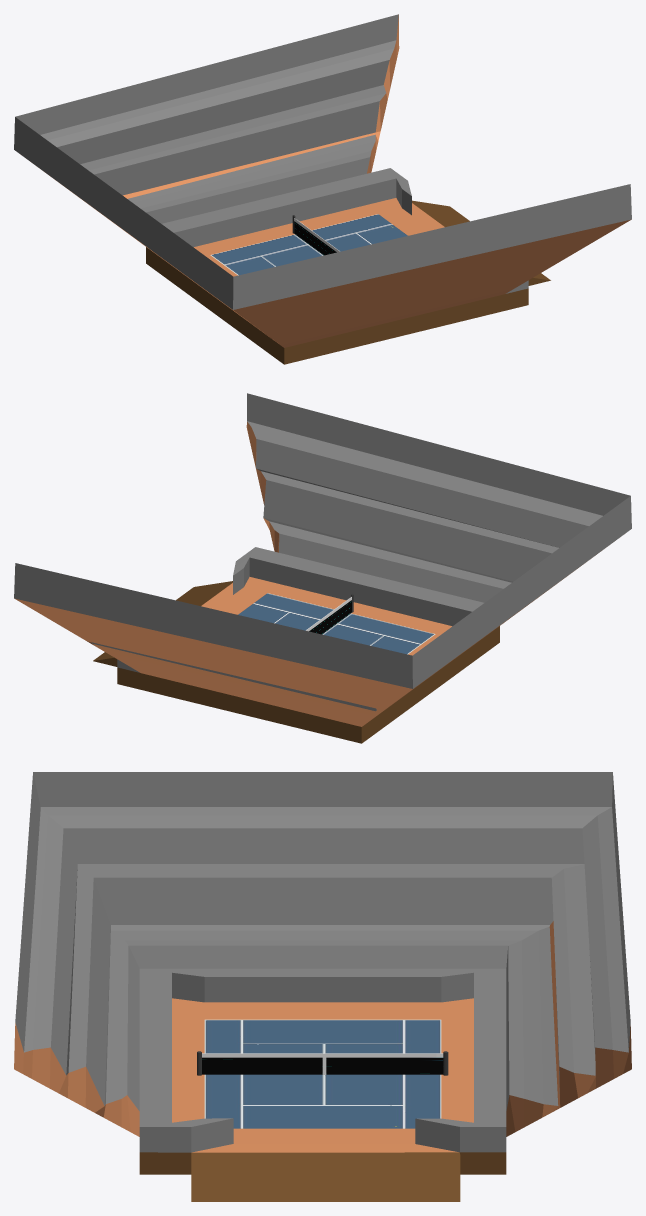
Rendered from tenis prototipo 1.fbx.
The picture shows the model from 3 angles, top to bottom: view 1: azimuth 30°, elevation 25°; view 2: azimuth 150°, elevation 25°; view 3: azimuth 270°, elevation 25°; orthographic projection. The views are drawn at different scales.
Parts seen in each view (by area): view 1: orange, court, red; view 2: orange, court, red; view 3: orange, court, red, top red.
Boxes of the visible parts, x1,y1,x2,y2 form: orange: (14, 14, 631, 364); court: (210, 214, 407, 275); red: (294, 221, 336, 255); orange: (14, 393, 631, 743); court: (238, 593, 435, 654); red: (309, 600, 351, 634); orange: (14, 772, 631, 1201); court: (204, 1019, 441, 1128); red: (202, 1057, 443, 1074); top red: (202, 1053, 443, 1057).
Bounding box in the file's own units: 7885 × 2730 × 8110.
